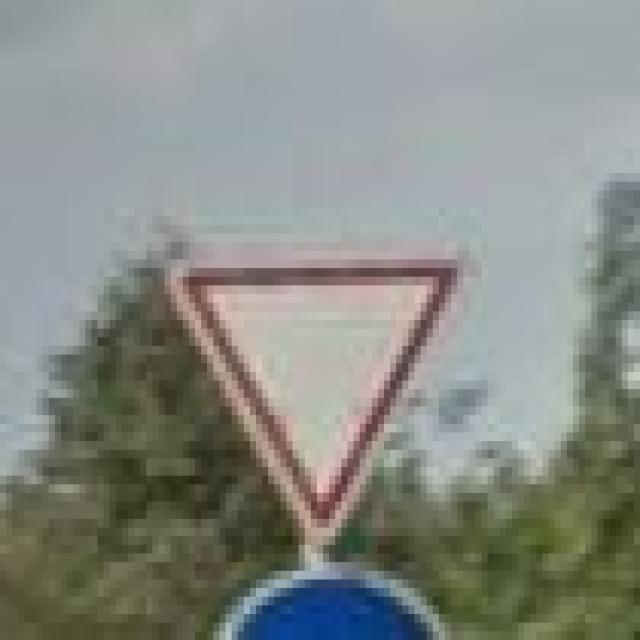give_way: (164, 251, 470, 545)
